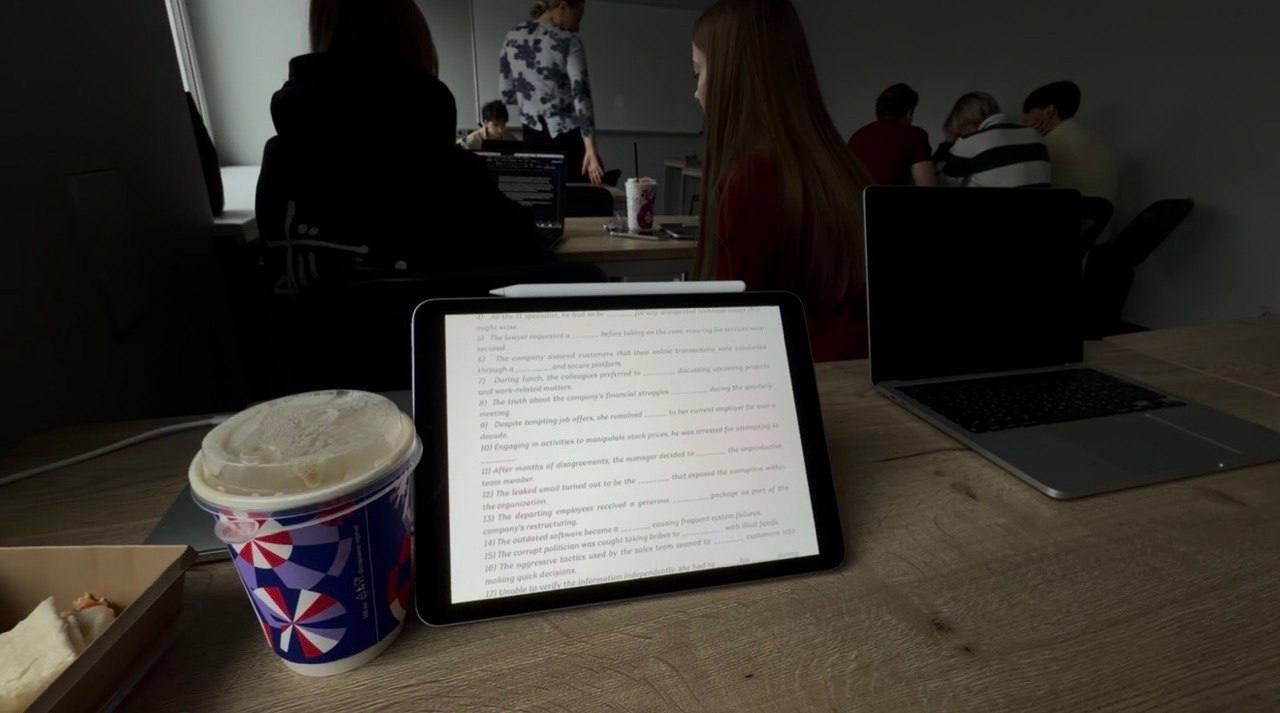cell phone: (609, 227, 668, 240)
laptop: (863, 184, 1279, 500), (472, 152, 567, 248)
